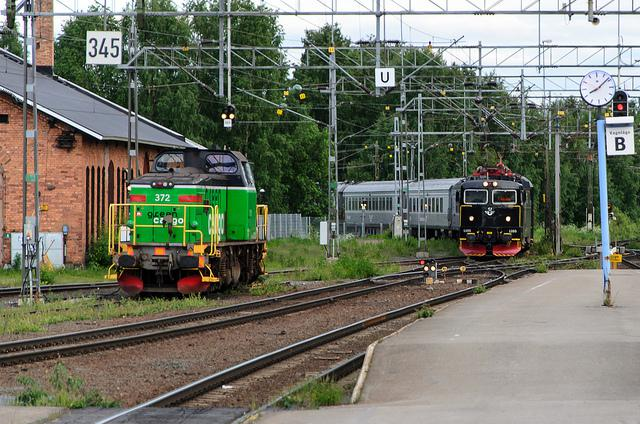Train: (116, 149, 272, 299), (339, 164, 537, 258)
